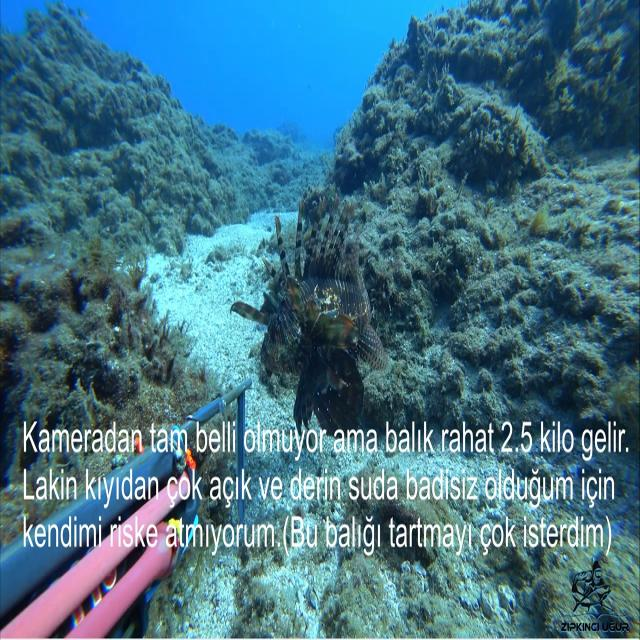Aslan Baligi: (222, 148, 418, 424)
